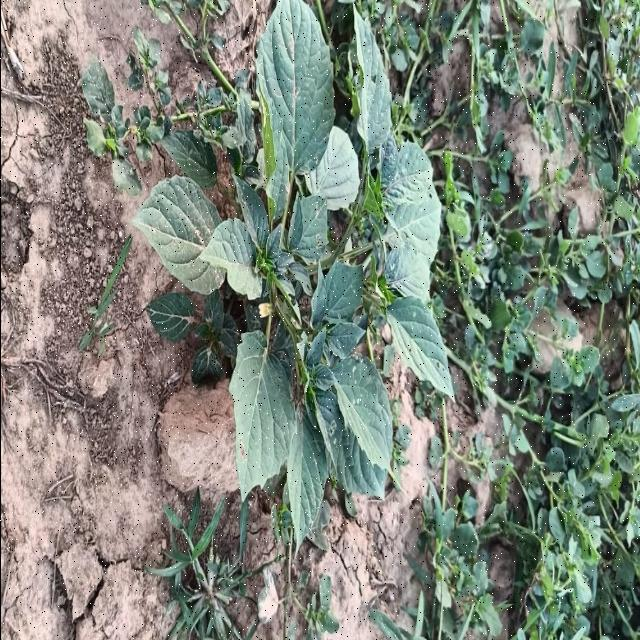weed: (137, 1, 452, 542)
